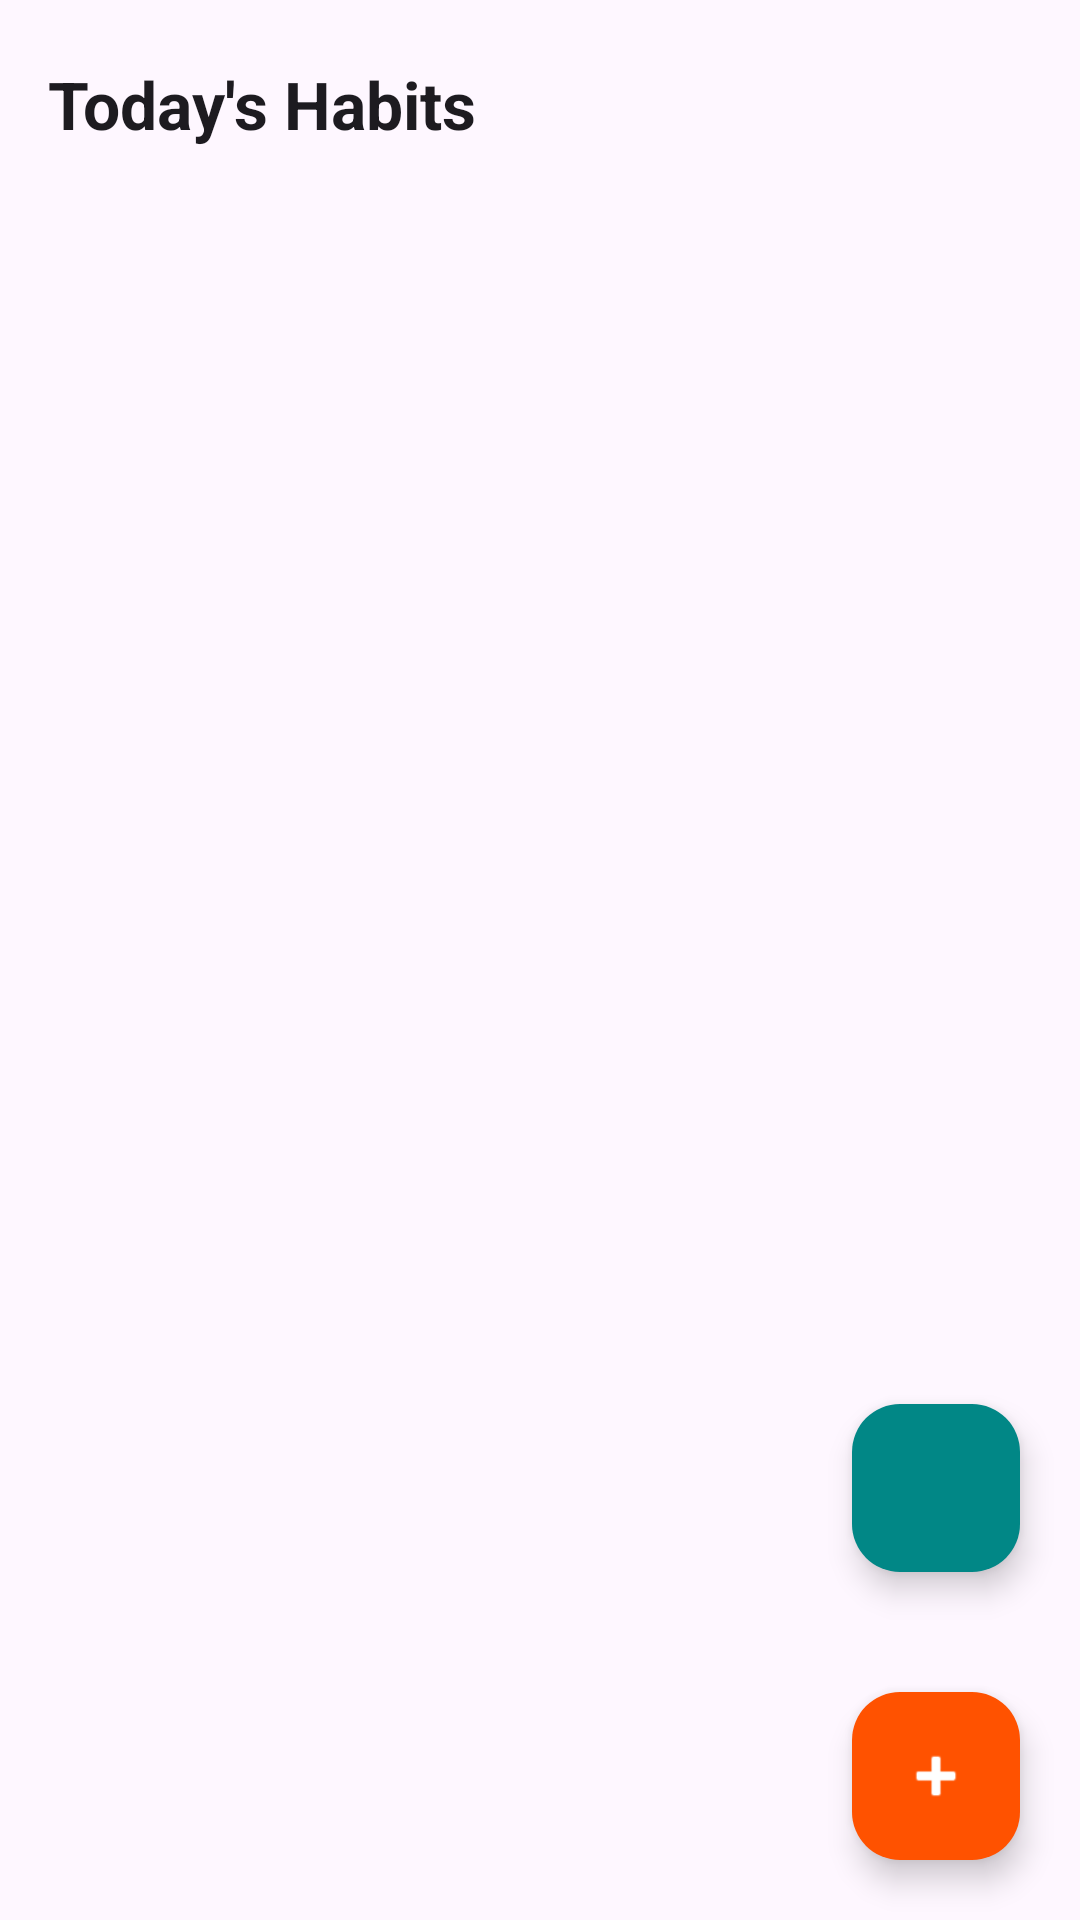

Icon bounding boxes for this 1080x1920 phone screenshot, format (x1, y1, x2, y2):
Agregar nuevo hábito: (852, 1692, 1020, 1860)
